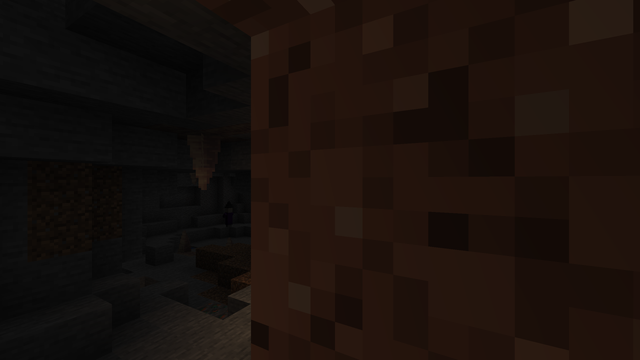sorcieres: (224, 206, 233, 226)
